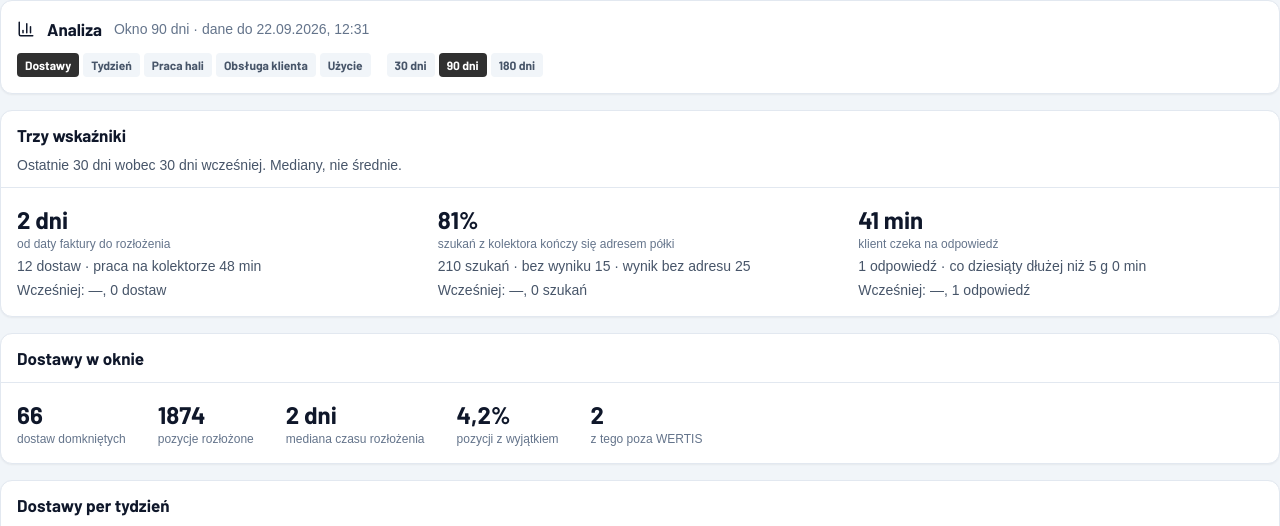
Test: Analiza w panelu › rola biuro nie dostaje raportu per osoba — karty nie ma wcale
Click the button "Praca hali" at (178, 65), box x1=144 y1=53 x2=212 y2=77
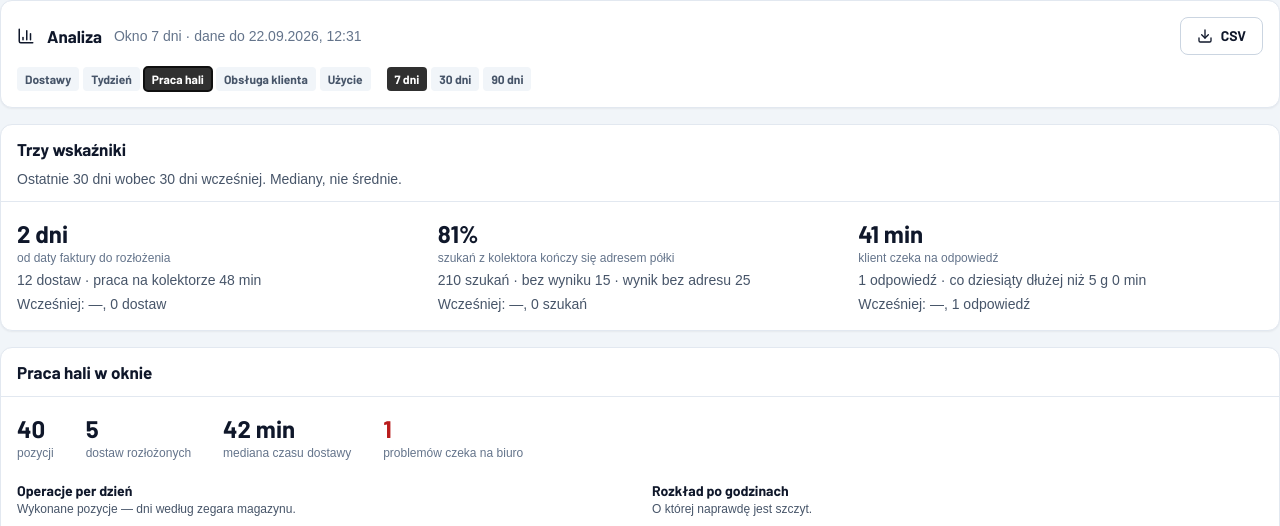
Now the heading "Operacje per dzień" is shown, box x1=17 y1=482 x2=132 y2=499
